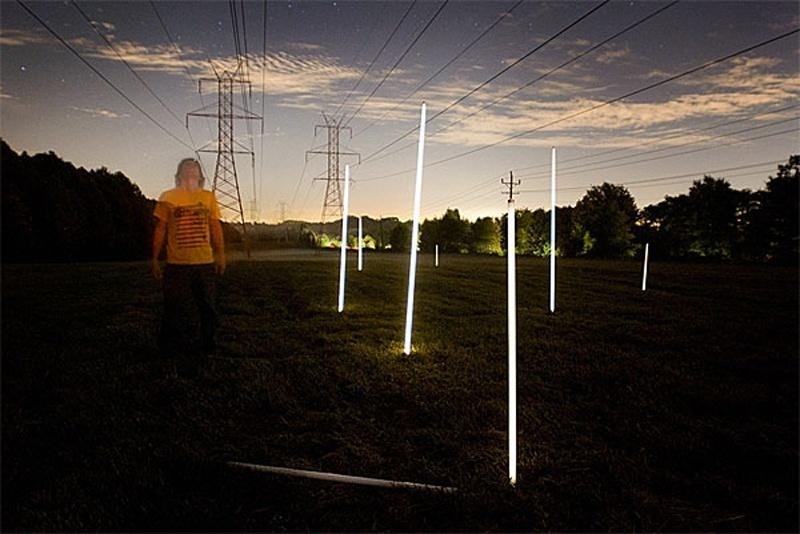power_tower: (198, 69, 272, 241), (299, 106, 353, 233)
